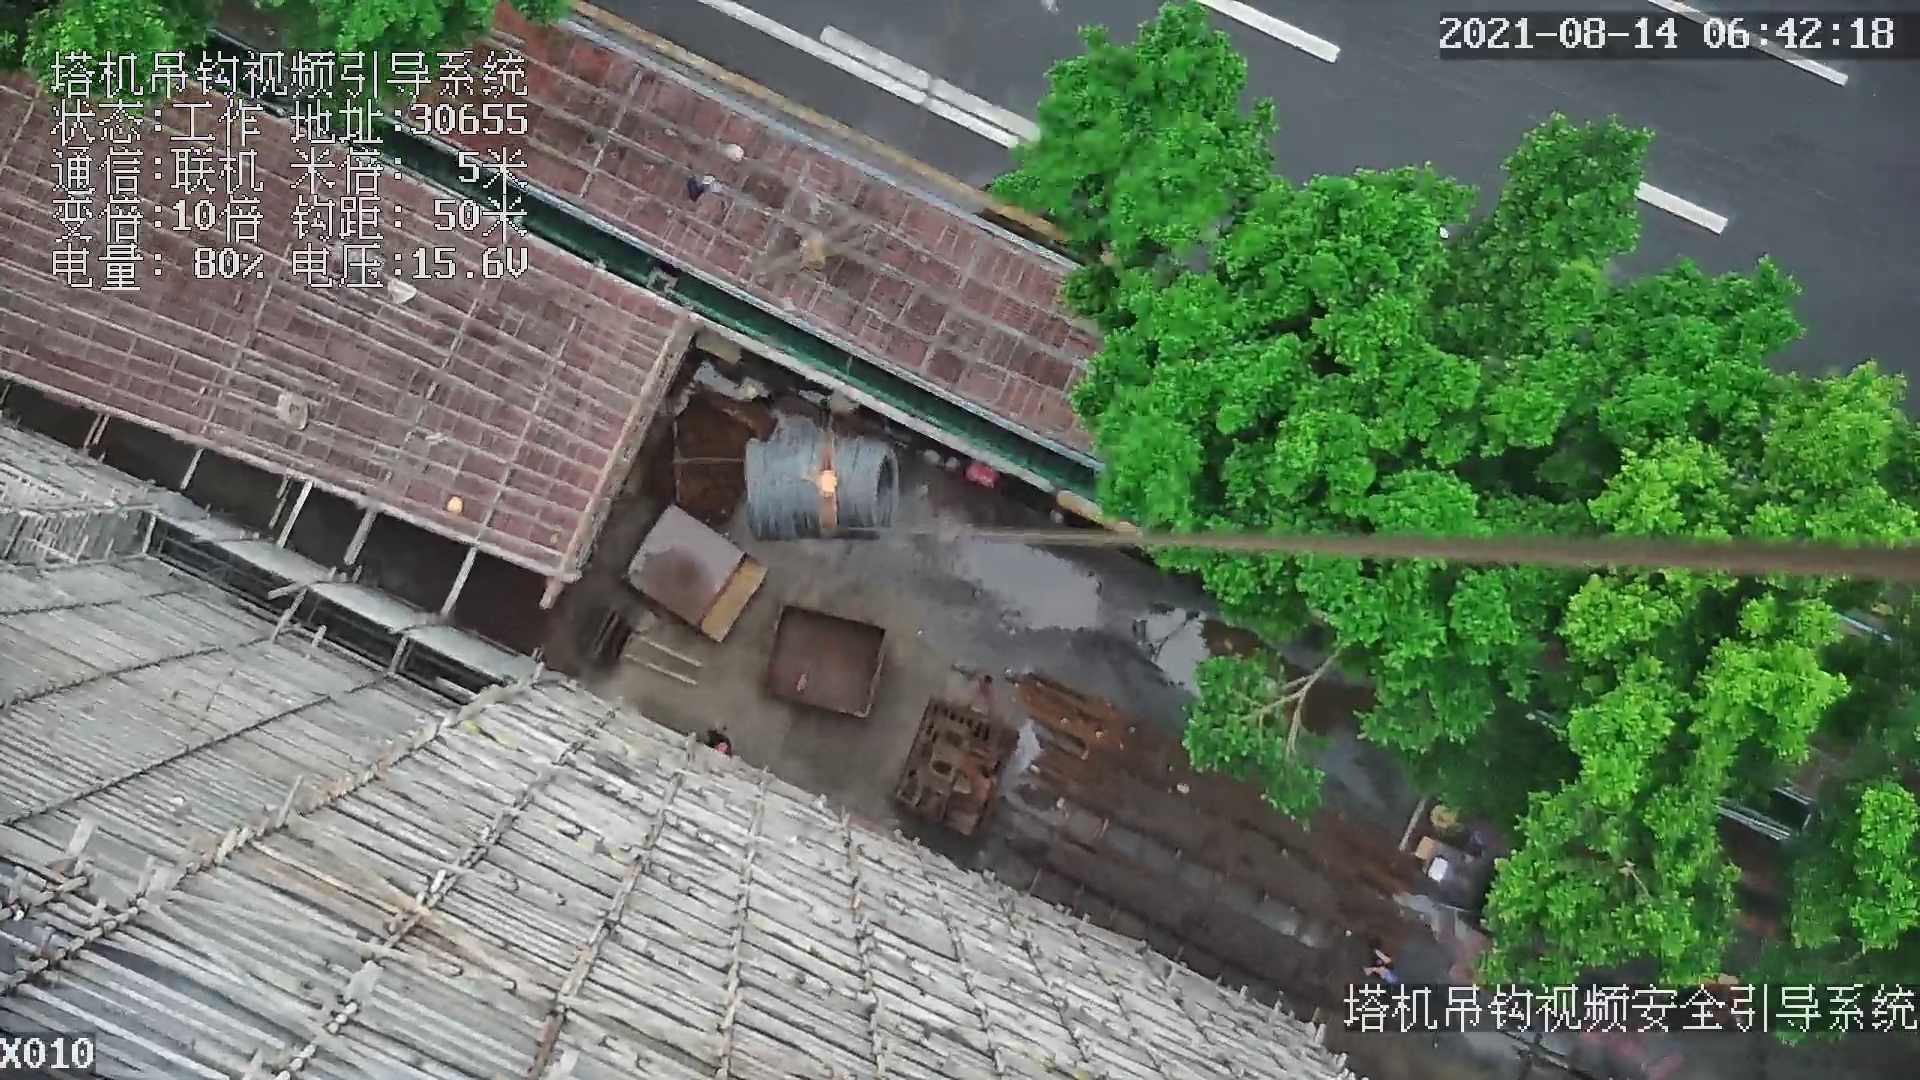hook: (787, 422, 843, 541)
